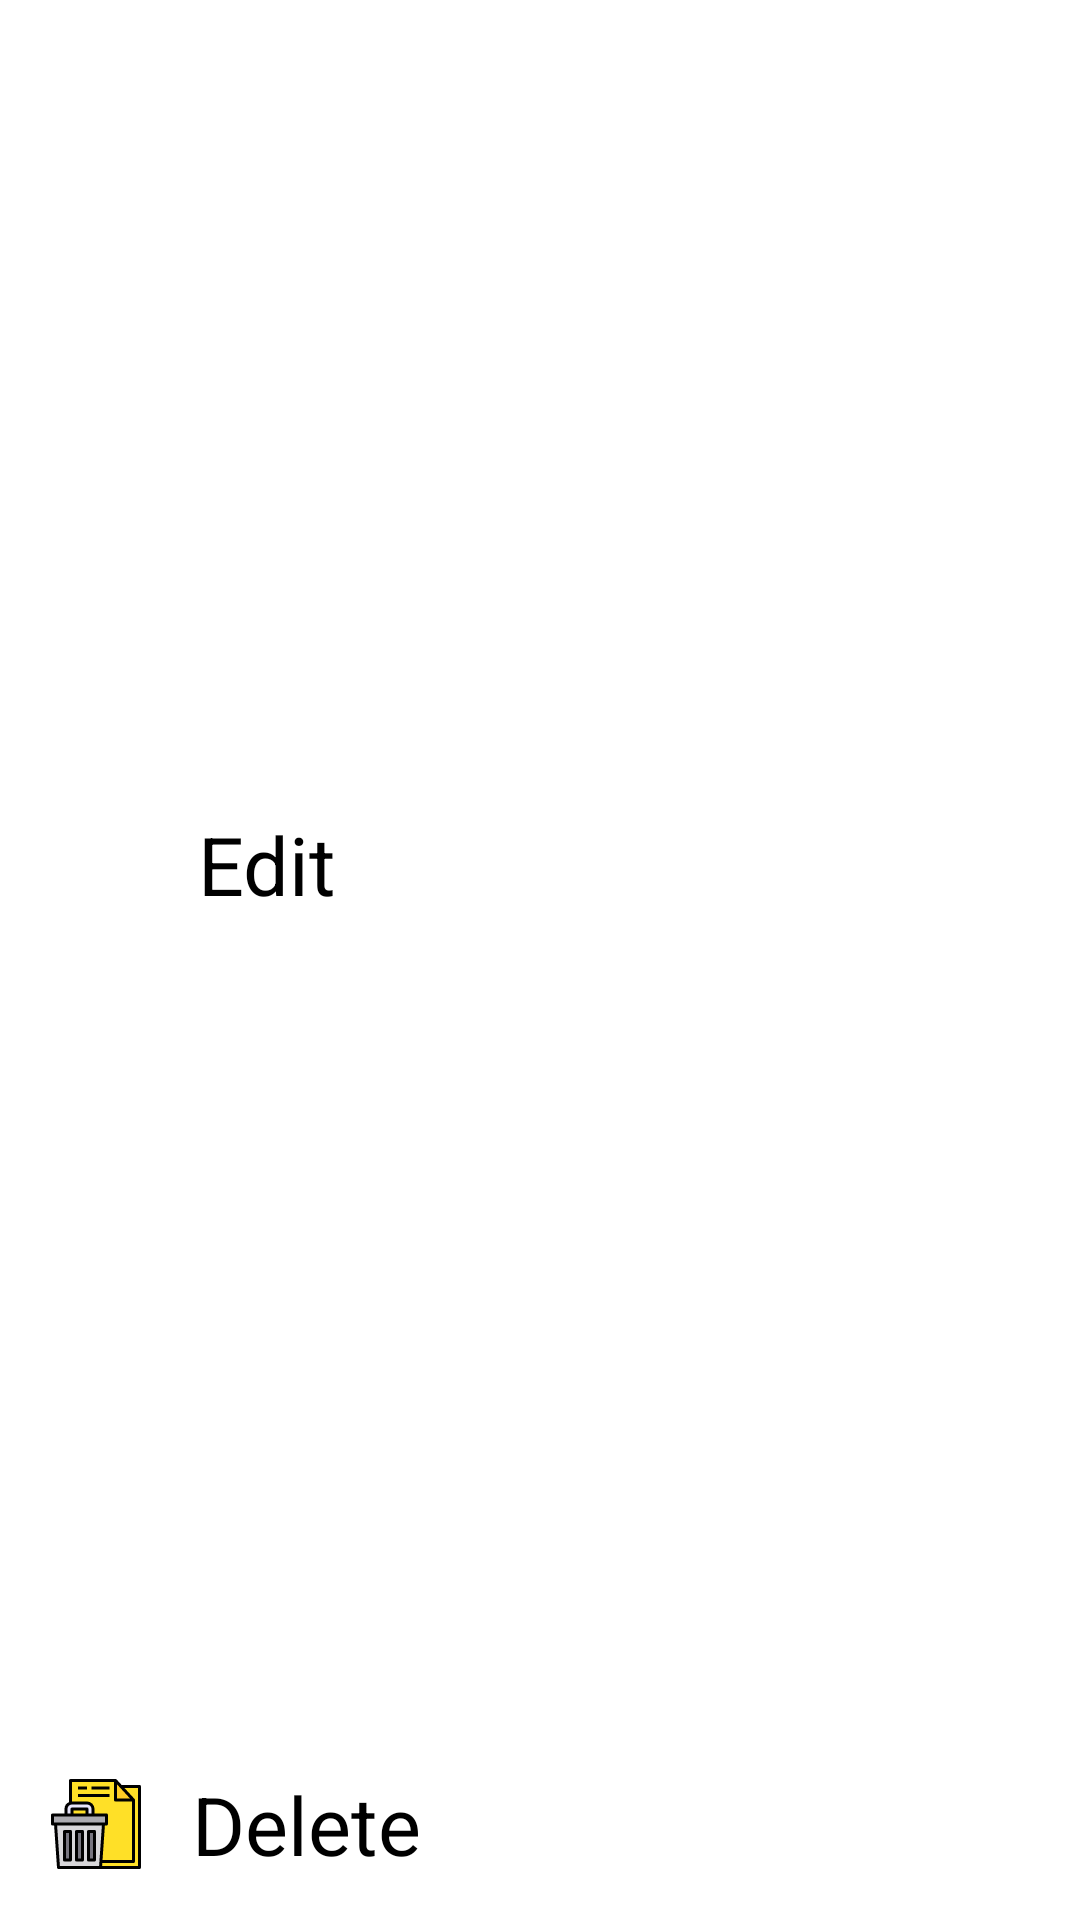

Icons on this 1080px×1920px Android screen, each with the point to tap as (x,y):
trash: (96,1824)
